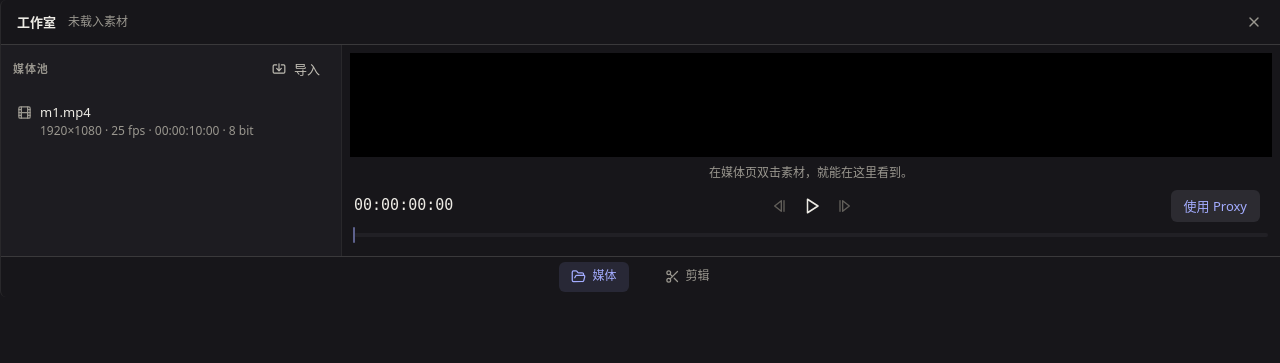
Test case: the media pool › says what failed in the language of the page, with what the engine said beneath
Double-click the option "m1.mp4 1920×1080 · 25 fps · 00:00:10:00 · 8 bit" at (135, 121), box [17,103,254,139]
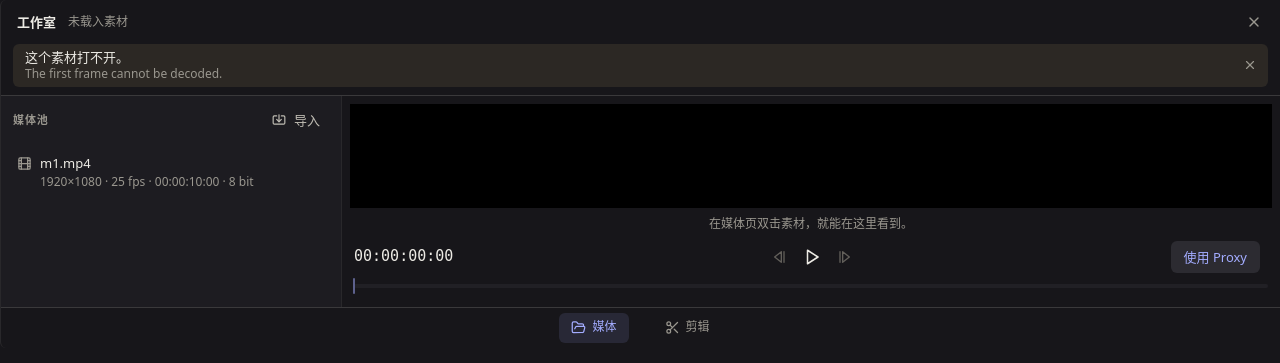
Now the text "这个素材打不开。" is shown, box [25,48,129,66]
Now the text "The first frame cannot be decoded." is shown, box [25,65,222,82]
